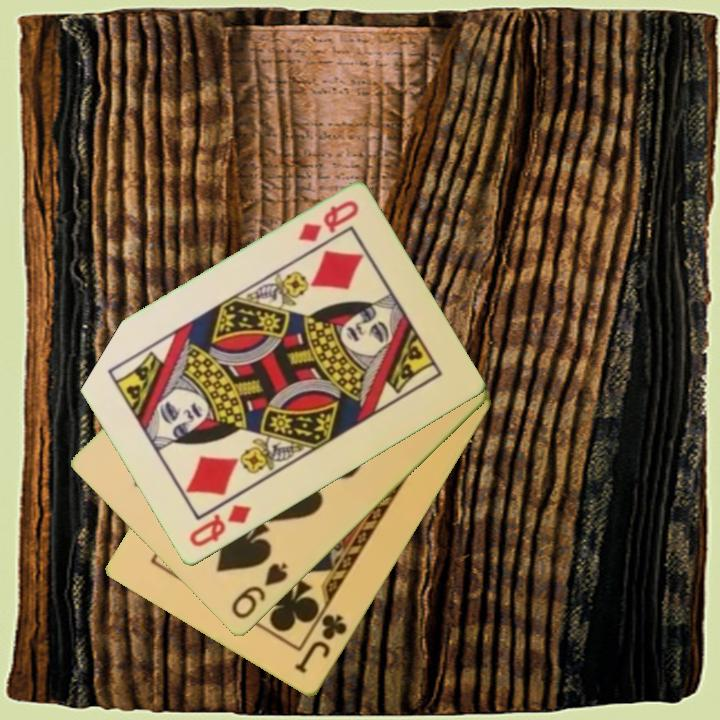9s: (228, 559, 291, 623)
Jc: (291, 611, 350, 677)
Qd: (185, 501, 255, 551), (294, 197, 362, 246)
